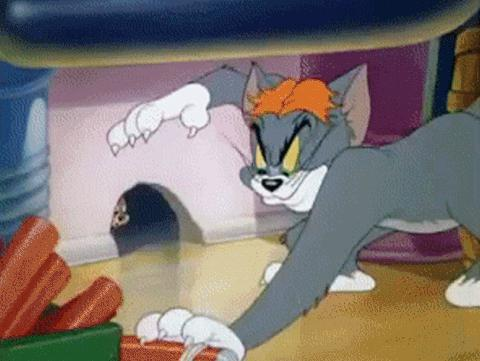tom: (104, 58, 477, 361)
